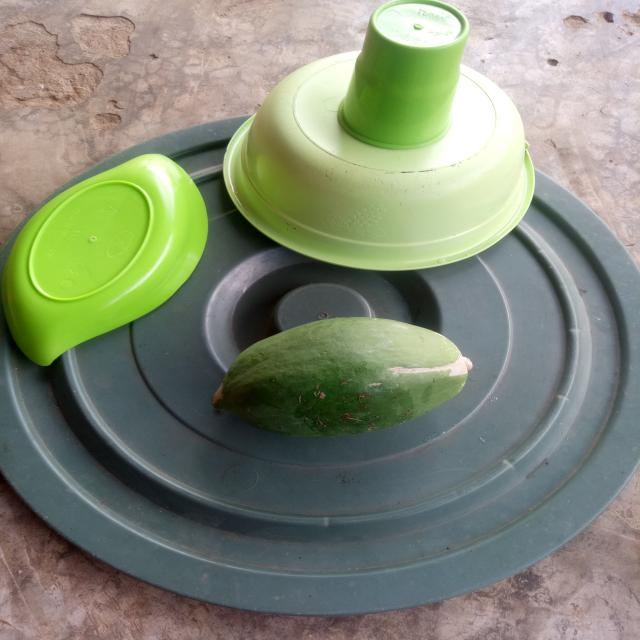Pepaya unrippen: (204, 311, 482, 447)
